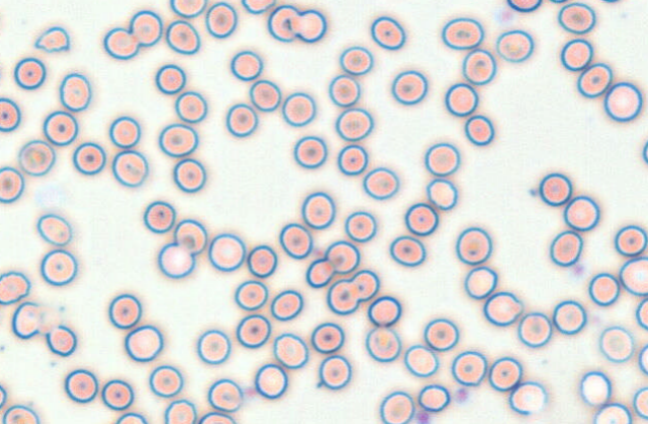PLT: (453, 388, 471, 405), (416, 410, 432, 424)
RBC: (603, 81, 643, 122), (124, 324, 163, 362), (455, 226, 492, 265), (208, 232, 245, 271), (441, 17, 484, 50), (40, 248, 77, 286), (111, 149, 148, 187), (158, 122, 198, 157), (18, 139, 55, 176), (157, 242, 195, 278), (390, 69, 428, 105), (483, 291, 522, 326), (450, 350, 487, 386), (563, 195, 600, 231), (272, 332, 308, 369), (508, 381, 547, 415), (334, 107, 373, 141), (365, 326, 401, 362), (576, 62, 612, 98), (42, 110, 78, 146), (599, 325, 634, 362), (278, 222, 313, 259), (461, 48, 496, 85), (301, 191, 335, 229), (495, 29, 534, 62), (58, 72, 91, 111), (290, 8, 326, 43), (517, 311, 552, 347), (102, 26, 139, 60), (549, 229, 583, 266), (128, 9, 162, 46), (362, 166, 399, 200), (557, 2, 596, 34), (196, 329, 231, 364), (165, 19, 200, 54), (281, 91, 316, 126), (370, 15, 405, 50), (173, 218, 207, 254), (254, 363, 288, 399), (423, 317, 459, 351), (207, 378, 243, 412), (235, 314, 271, 348), (108, 293, 142, 329), (172, 157, 206, 193), (424, 142, 460, 176), (267, 4, 299, 42), (488, 356, 522, 391), (317, 354, 351, 389), (552, 299, 586, 334), (64, 368, 98, 403), (326, 279, 359, 315), (403, 344, 439, 377), (324, 240, 360, 273), (389, 234, 425, 267), (36, 213, 72, 246), (205, 1, 237, 38), (463, 265, 497, 299), (538, 172, 572, 206), (404, 202, 438, 236), (444, 82, 478, 116), (72, 141, 106, 175), (379, 390, 414, 423), (148, 364, 183, 397), (225, 102, 258, 137), (579, 370, 611, 406), (11, 301, 41, 339), (293, 135, 327, 168), (619, 256, 647, 296), (560, 38, 593, 71), (174, 90, 207, 123), (13, 56, 46, 89), (108, 115, 141, 148), (367, 295, 401, 327), (588, 272, 620, 306), (310, 321, 344, 353), (425, 177, 457, 210), (101, 378, 134, 410), (614, 224, 647, 256), (270, 289, 303, 321), (248, 79, 281, 111), (230, 49, 263, 81), (328, 74, 360, 107), (143, 200, 175, 233), (0, 270, 31, 304), (234, 279, 268, 310), (246, 244, 277, 278), (45, 324, 77, 356), (344, 210, 376, 242), (336, 143, 368, 175), (339, 45, 373, 75), (154, 63, 186, 94), (464, 114, 494, 146), (417, 383, 450, 412), (350, 269, 379, 301), (0, 165, 24, 203), (305, 257, 334, 288), (593, 402, 632, 423), (163, 399, 196, 423), (0, 96, 21, 132), (2, 404, 39, 423), (169, 0, 206, 18), (632, 386, 647, 419), (240, 0, 275, 14), (197, 411, 236, 423), (506, 0, 542, 12), (635, 297, 647, 330), (114, 412, 147, 423), (638, 343, 648, 375), (0, 384, 7, 408), (642, 138, 648, 165), (0, 8, 4, 36), (0, 58, 3, 87), (596, 0, 625, 3), (547, 0, 571, 3)
Schistocyte: (34, 27, 70, 52)
